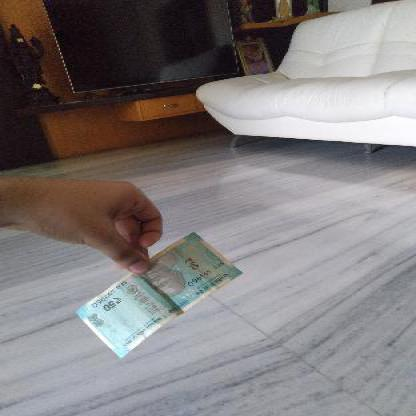New50Front: (72, 231, 244, 356)
